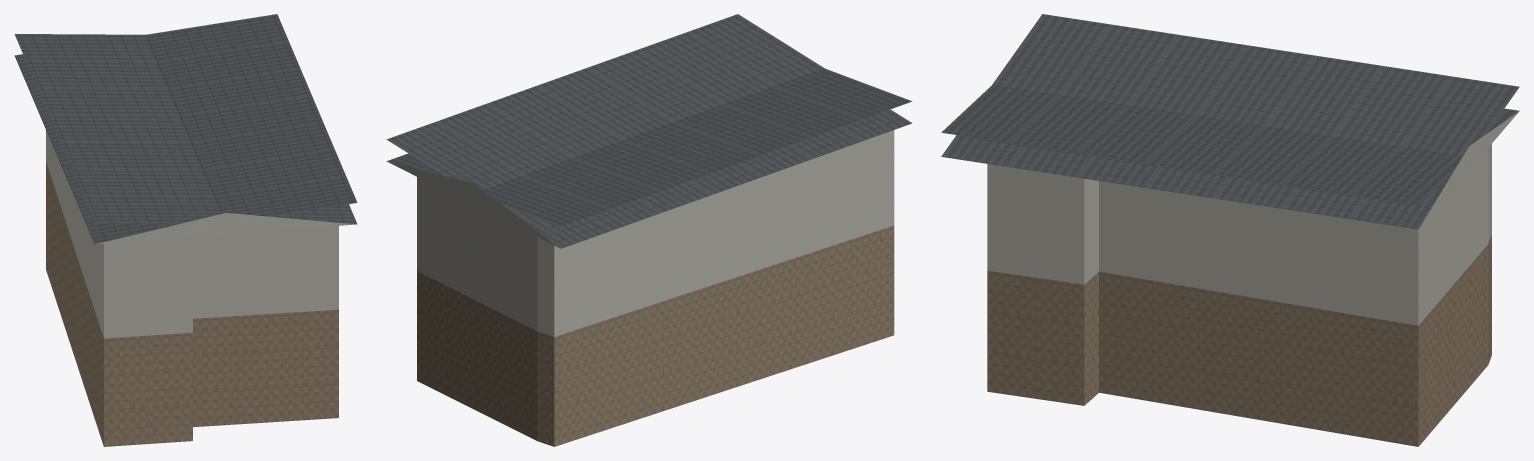
File: bld_c36_-26_441.gltf
3 views of the same model, side by side, from view 1: azimuth 30°, elevation 25°; view 2: azimuth 150°, elevation 25°; view 3: azimuth 270°, elevation 25° (orthographic). The views are drawn at different scales.
Parts seen in each view (by area): view 1: bld_c36_-26_441; view 2: bld_c36_-26_441; view 3: bld_c36_-26_441.
Boxes of the visible parts, box(x1,y1,x2,y2) form: bld_c36_-26_441: box(14, 14, 357, 446); bld_c36_-26_441: box(386, 14, 912, 446); bld_c36_-26_441: box(941, 14, 1519, 446).
Bounding box in the file's own units: 17.03 × 10.7 × 21.76.
4 materials, 4 textured.
